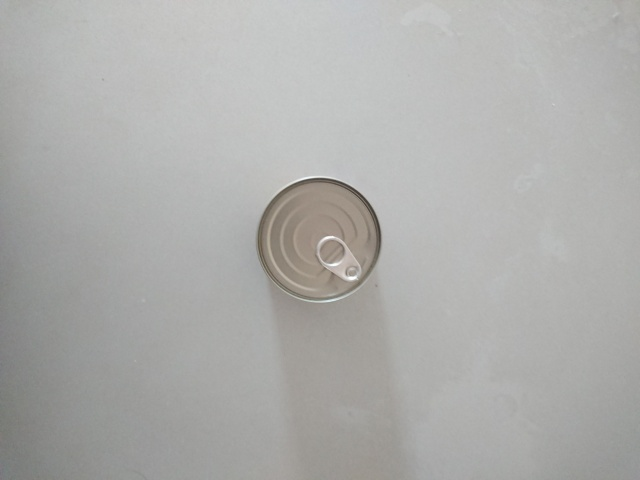Giana Tuna Salad Mexico 185g: (253, 172, 384, 306)
